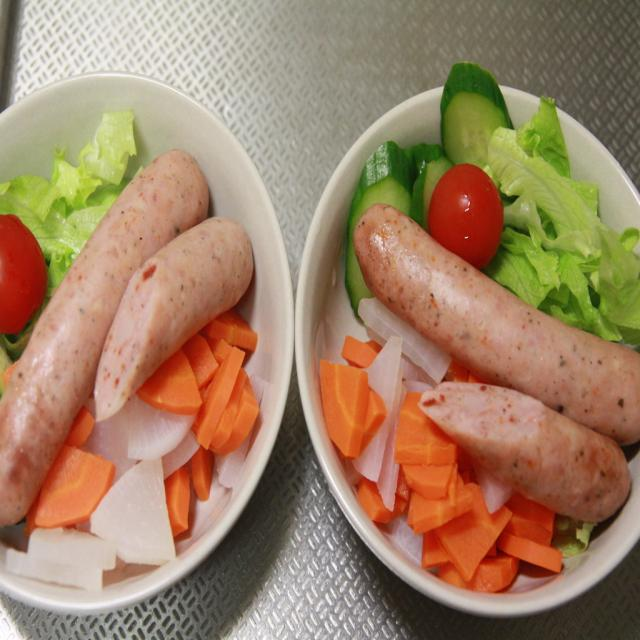carrot: (356, 389, 563, 596), (136, 304, 259, 540), (24, 410, 118, 531), (318, 354, 370, 460)
